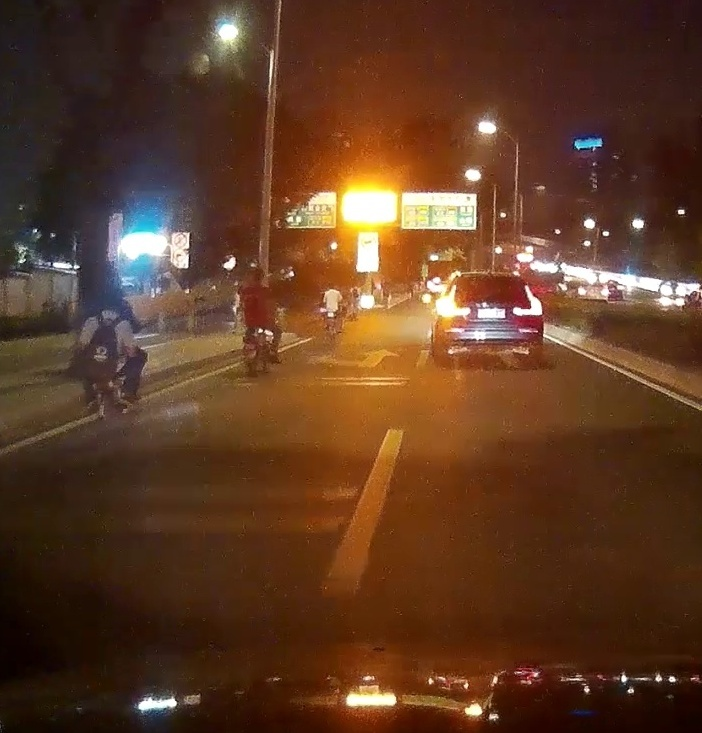L_light: (441, 285, 470, 315)
R_light: (513, 285, 542, 315)
T_light: (483, 278, 498, 282)
night-no: (436, 273, 543, 364)
